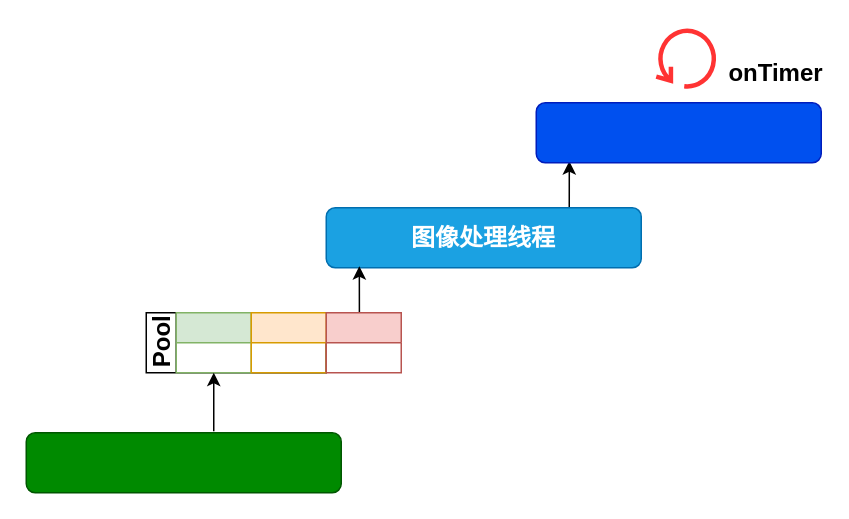
Image size: 849x519. Some labels were removed from this diagram. Here are the shapes that lost their labels. From the top down, the centre of each, then its label:
At (678,132): "UI线程".
At (183,462): "DirectShow线程".
